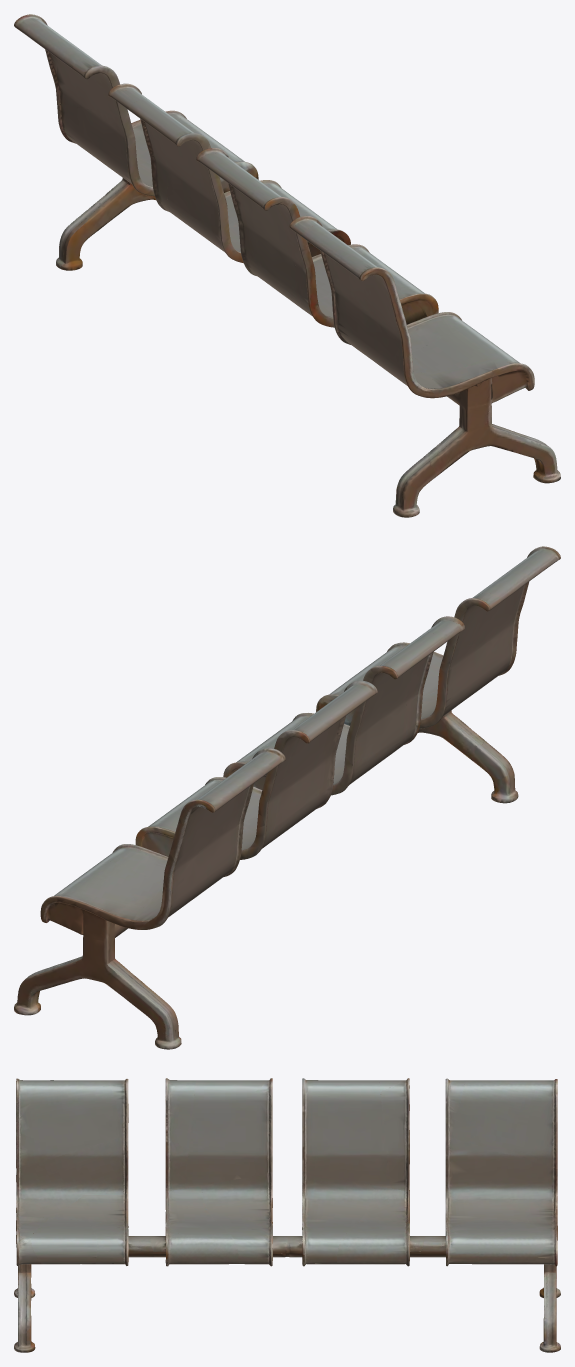
File: sandalye-opt-v5.glb
The picture shows the model from 3 angles, top to bottom: view 1: azimuth 30°, elevation 25°; view 2: azimuth 150°, elevation 25°; view 3: azimuth 270°, elevation 25°; orthographic projection. The views are drawn at different scales.
Visible parts, largest first — view 1: sandalye; view 2: sandalye; view 3: sandalye.
Part boxes in pixels (bbox=[...]): sandalye: bbox=[14, 14, 560, 517]; sandalye: bbox=[14, 546, 560, 1049]; sandalye: bbox=[14, 1078, 560, 1352].
Bounding box in the file's own units: 0.3349 × 0.4037 × 1.
Materials: 1 (1 with a texture image).
